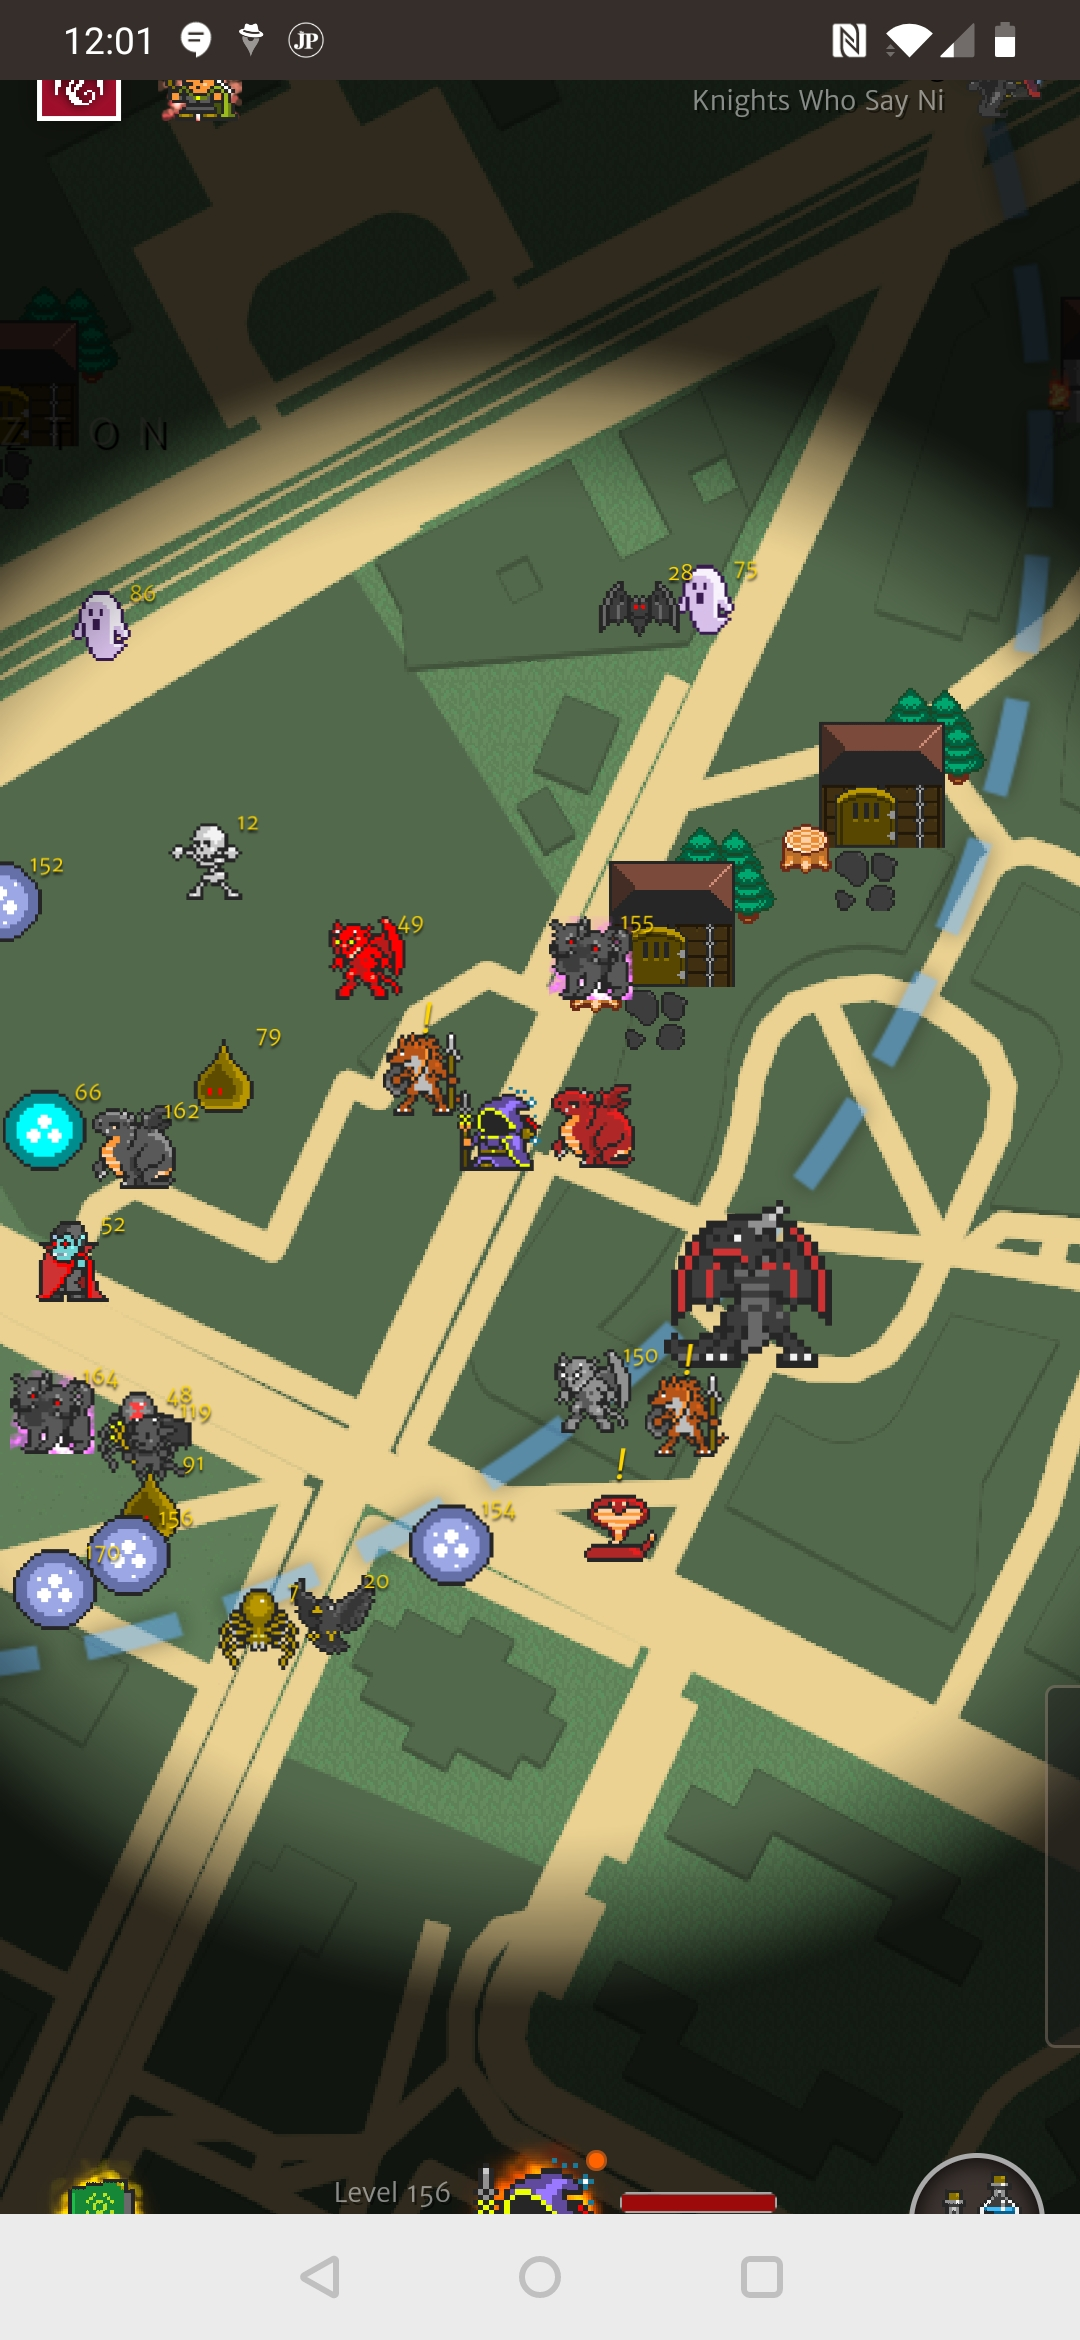monster: (281, 1568, 405, 1682), (398, 1496, 522, 1599), (184, 1023, 305, 1127), (160, 809, 270, 923), (95, 1106, 205, 1199), (577, 1489, 688, 1578), (322, 920, 422, 1009)
player: (450, 1096, 546, 1175)
